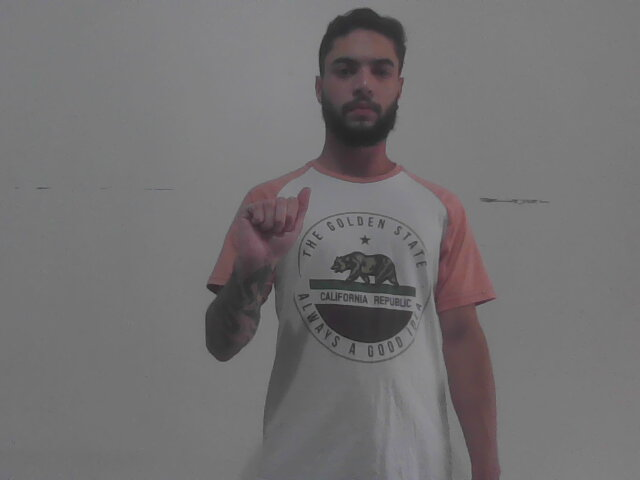a: (227, 183, 315, 266)
